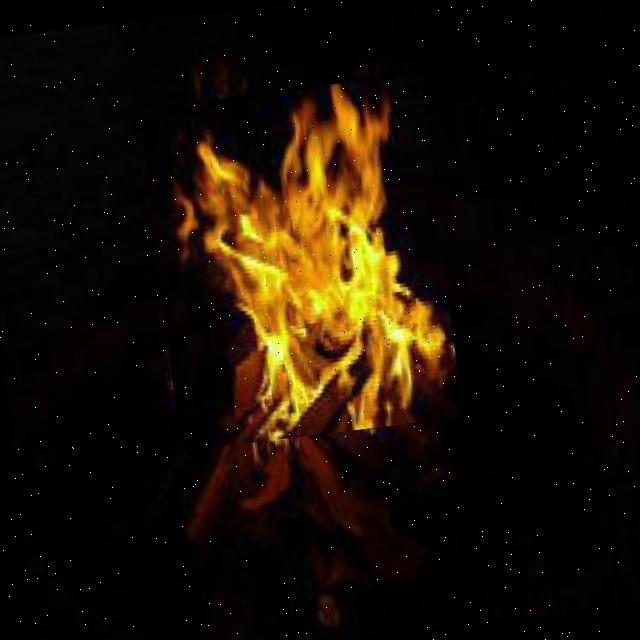fire: (139, 73, 463, 451)
